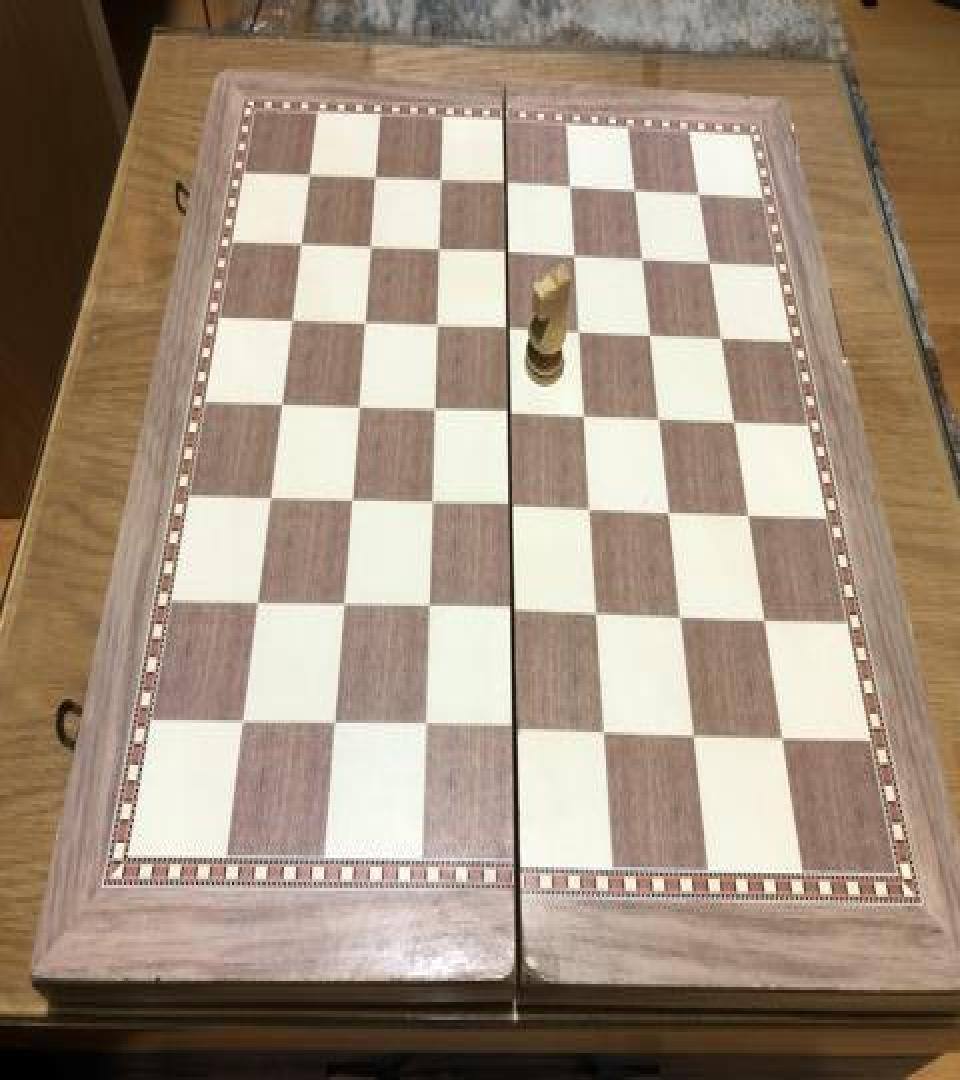xcorner: (751, 601, 775, 638), (585, 595, 609, 632), (246, 586, 270, 623), (687, 171, 711, 207), (623, 170, 647, 206), (559, 166, 583, 202), (495, 164, 519, 200), (430, 160, 454, 196), (365, 158, 389, 194), (300, 156, 324, 192), (697, 240, 721, 276), (630, 238, 654, 274), (563, 236, 587, 272), (496, 232, 520, 268), (428, 230, 452, 266), (360, 228, 384, 264), (291, 225, 315, 261), (709, 316, 733, 352), (638, 314, 662, 350), (568, 312, 592, 348), (497, 309, 521, 345), (425, 306, 449, 342), (354, 303, 378, 339), (282, 302, 306, 338), (721, 402, 745, 438), (647, 399, 671, 435), (573, 396, 597, 432), (498, 393, 522, 429), (423, 392, 447, 428), (347, 388, 371, 424), (271, 386, 295, 422), (735, 495, 759, 531), (657, 494, 681, 530), (578, 490, 602, 526), (499, 488, 523, 524), (420, 486, 444, 522), (340, 483, 364, 519), (259, 480, 283, 516), (668, 598, 692, 634), (501, 594, 525, 630), (416, 591, 440, 627), (331, 590, 355, 626), (769, 720, 793, 756), (681, 717, 705, 753), (592, 716, 616, 752), (502, 714, 526, 750), (412, 711, 436, 747), (322, 710, 346, 746), (231, 706, 255, 742)
